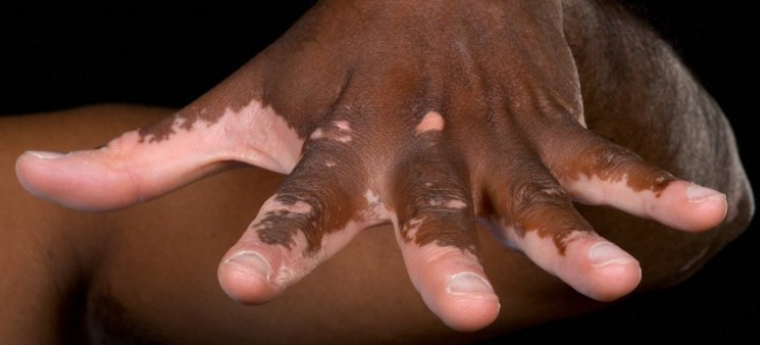vitiligo: (158, 95, 653, 300)
